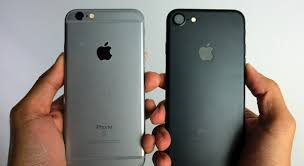iphone: (60, 4, 150, 165), (161, 4, 251, 165)
